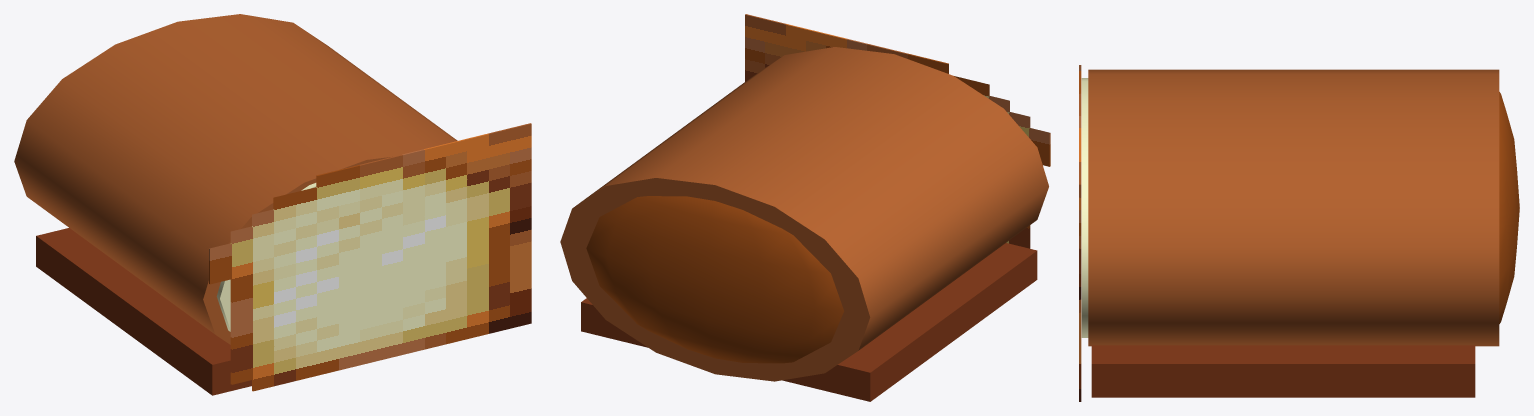
File: CMU3DBakedBreadPlain.glb
The picture shows the model from 3 angles, left to right: view 1: azimuth 30°, elevation 25°; view 2: azimuth 150°, elevation 25°; view 3: azimuth 270°, elevation 25°; orthographic projection. The views are drawn at different scales.
Parts seen in each view (by area): view 1: rounded loaf crust vault, original cut crumb and filling, flat crust sole, solid cut crumb end; view 2: rounded loaf crust vault, rounded rear heel, flat crust sole, original cut crumb and filling; view 3: rounded loaf crust vault, flat crust sole, rounded rear heel, solid cut crumb end, original cut crumb and filling.
Part boxes in pixels (x1,y1,x2,y2): rounded loaf crust vault: (14,14,457,344); original cut crumb and filling: (209,123,531,391); flat crust sole: (36,228,251,395); solid cut crumb end: (216,183,316,331); rounded loaf crust vault: (560,47,1048,381); rounded rear heel: (586,196,843,363); flat crust sole: (581,243,1037,401); original cut crumb and filling: (745,14,1050,248); rounded loaf crust vault: (1088,69,1499,346); flat crust sole: (1091,345,1475,397); rounded rear heel: (1499,92,1519,323); solid cut crumb end: (1081,78,1088,337); original cut crumb and filling: (1079,65,1081,401).
Size of the model in its own units: 0.6 by 0.35 by 0.6435.
Materials: 5 (1 with a texture image).
